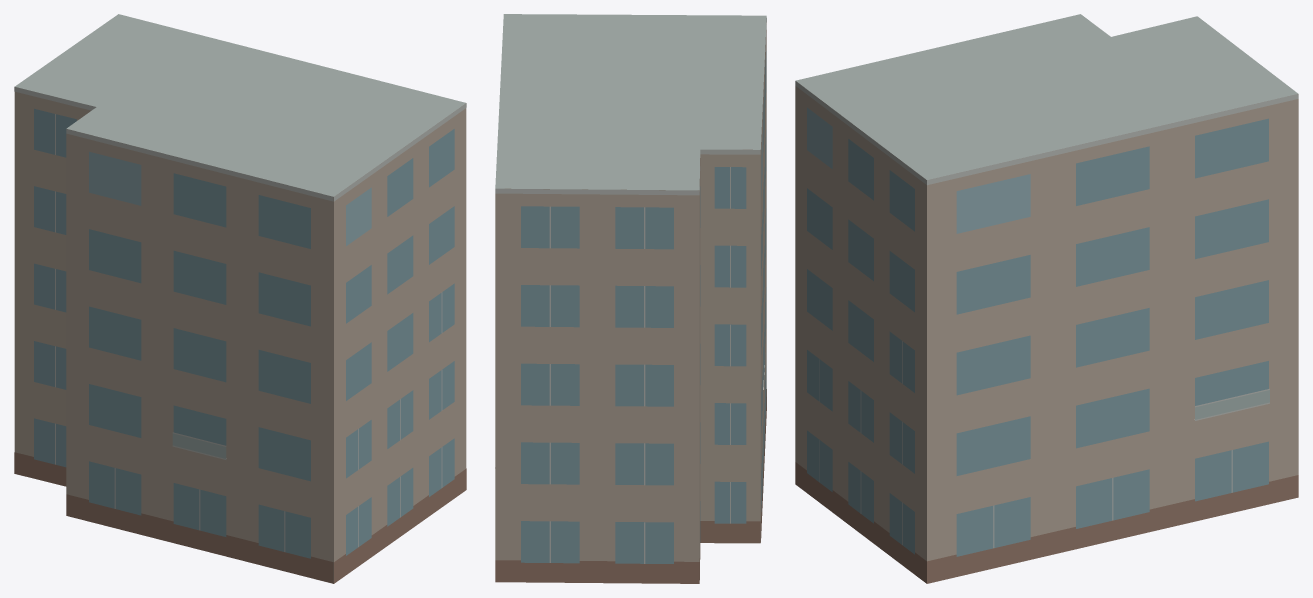
Rendered from survey-upis-32838946.glb.
3 views of the same model, side by side, from view 1: azimuth 30°, elevation 25°; view 2: azimuth 150°, elevation 25°; view 3: azimuth 270°, elevation 25° (orthographic). The views are drawn at different scales.
Parts seen in each view (by area): view 1: survey-upis-32838946.tmp; view 2: survey-upis-32838946.tmp; view 3: survey-upis-32838946.tmp.
Part boxes in pixels (x1,y1,x2,y2): survey-upis-32838946.tmp: (14,14,466,583); survey-upis-32838946.tmp: (495,14,766,583); survey-upis-32838946.tmp: (795,14,1298,583).
Bounding box in the file's own units: 17.23 × 19.5 × 22.03.
